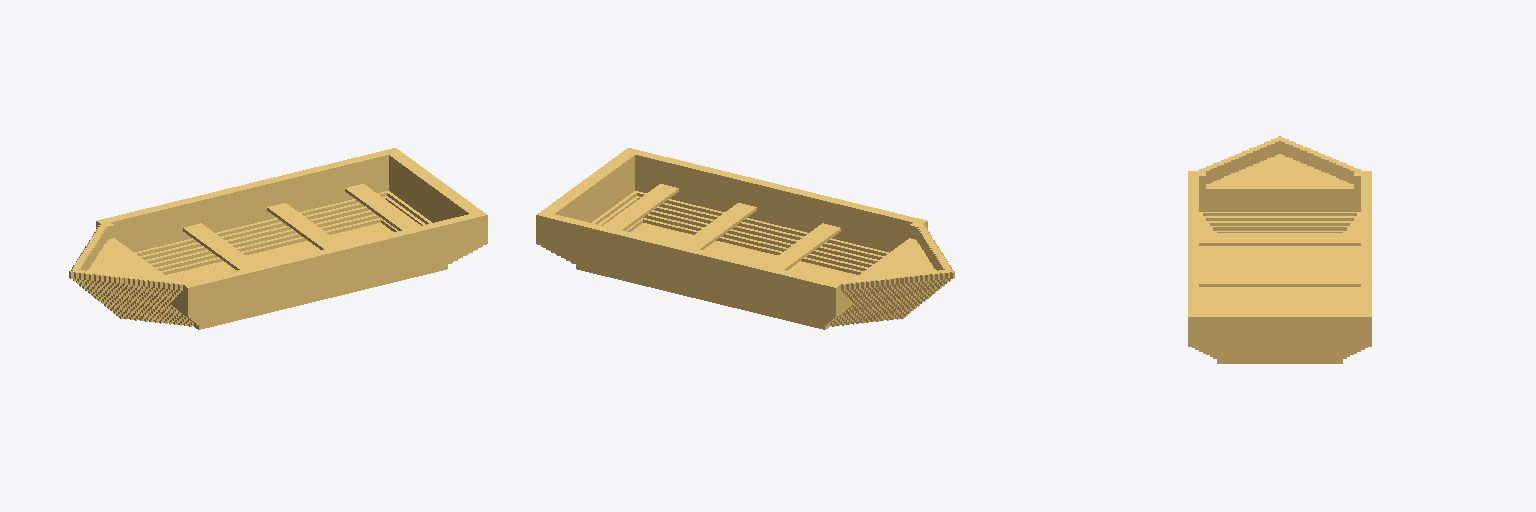
3 renders of one model, left to right at view 1: azimuth 30°, elevation 25°; view 2: azimuth 150°, elevation 25°; view 3: azimuth 270°, elevation 25°, orthographic.
Size of the model in its own units: 119 by 18 by 51.
Materials: 1 (1 with a texture image).